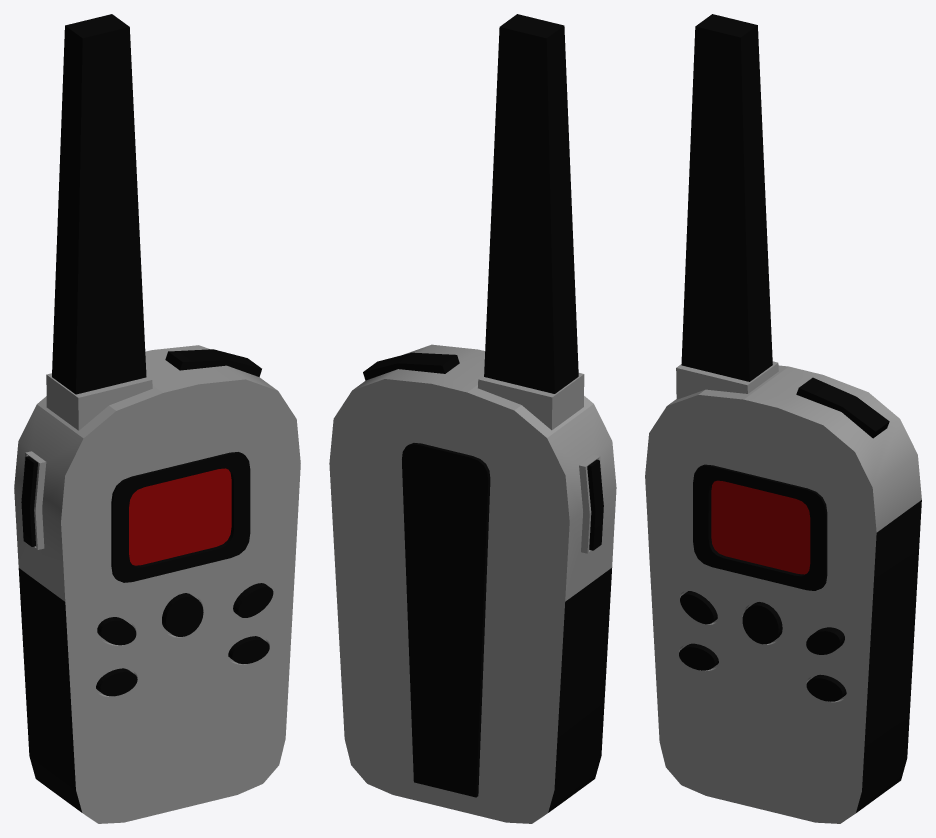
The model's file is Talkie.FBX.
3 views of the same model, side by side, from view 1: azimuth 30°, elevation 25°; view 2: azimuth 150°, elevation 25°; view 3: azimuth 330°, elevation 25° (orthographic). The views are drawn at different scales.
Parts seen in each view (by area): view 1: Box001; view 2: Box001; view 3: Box001.
Part boxes in pixels (bbox=[...]): Box001: bbox=[14, 14, 300, 823]; Box001: bbox=[329, 14, 616, 823]; Box001: bbox=[645, 14, 921, 823].
Size of the model in its own units: 30.28 by 90.49 by 11.4.
